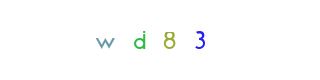3: (161, 0, 241, 80)
8: (120, 0, 200, 80)
D: (116, 0, 196, 80)
W: (90, 0, 170, 80)
